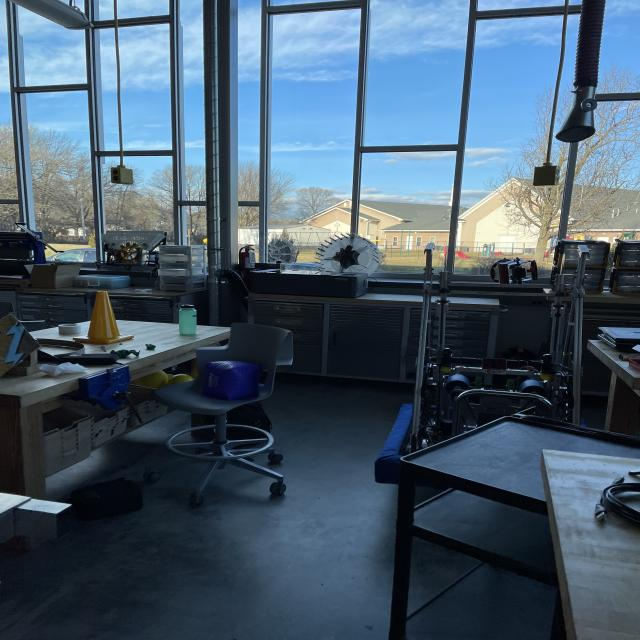frc_cone: (78, 290, 128, 345)
frc_cube: (196, 355, 264, 402)
